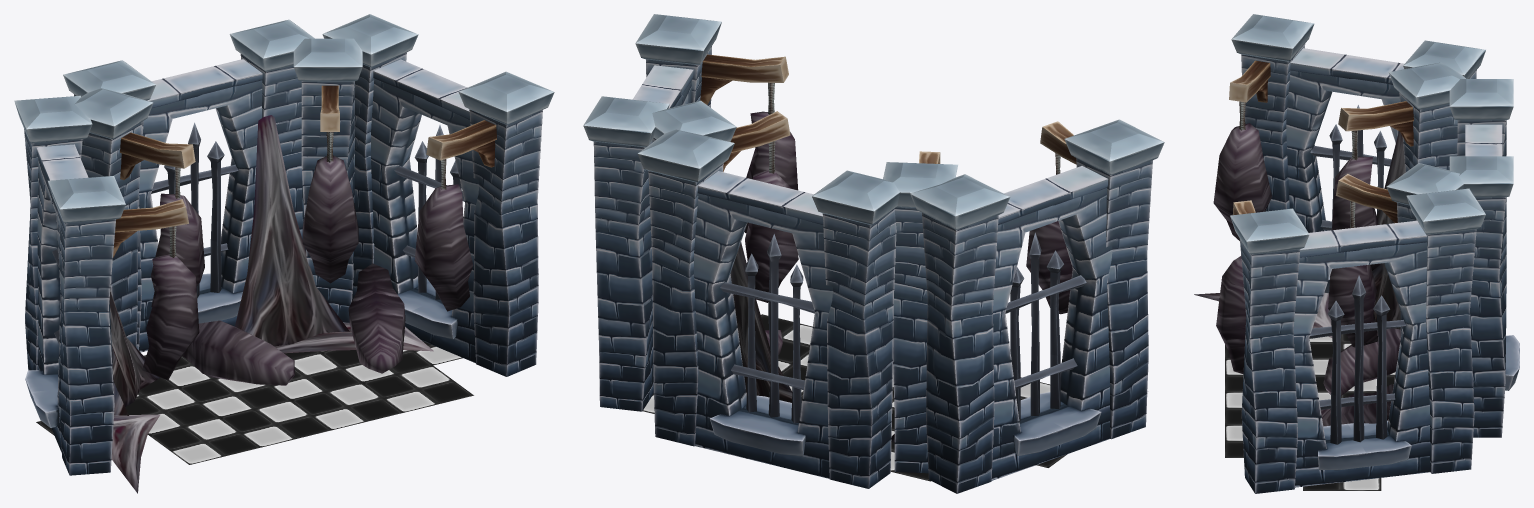
File: Vampire_Village_Interior_02.FBX
3 views of the same model, side by side, from view 1: azimuth 30°, elevation 25°; view 2: azimuth 150°, elevation 25°; view 3: azimuth 270°, elevation 25° (orthographic). The views are drawn at different scales.
Parts seen in each view (by area): view 1: Vampire_Village_Interior_02; view 2: Vampire_Village_Interior_02; view 3: Vampire_Village_Interior_02.
Boxes of the visible parts, x1,y1,x2,y2 form: Vampire_Village_Interior_02: (14,14,554,493); Vampire_Village_Interior_02: (583,14,1164,493); Vampire_Village_Interior_02: (1194,14,1519,493).
Size of the model in its own units: 742 by 411 by 450.
